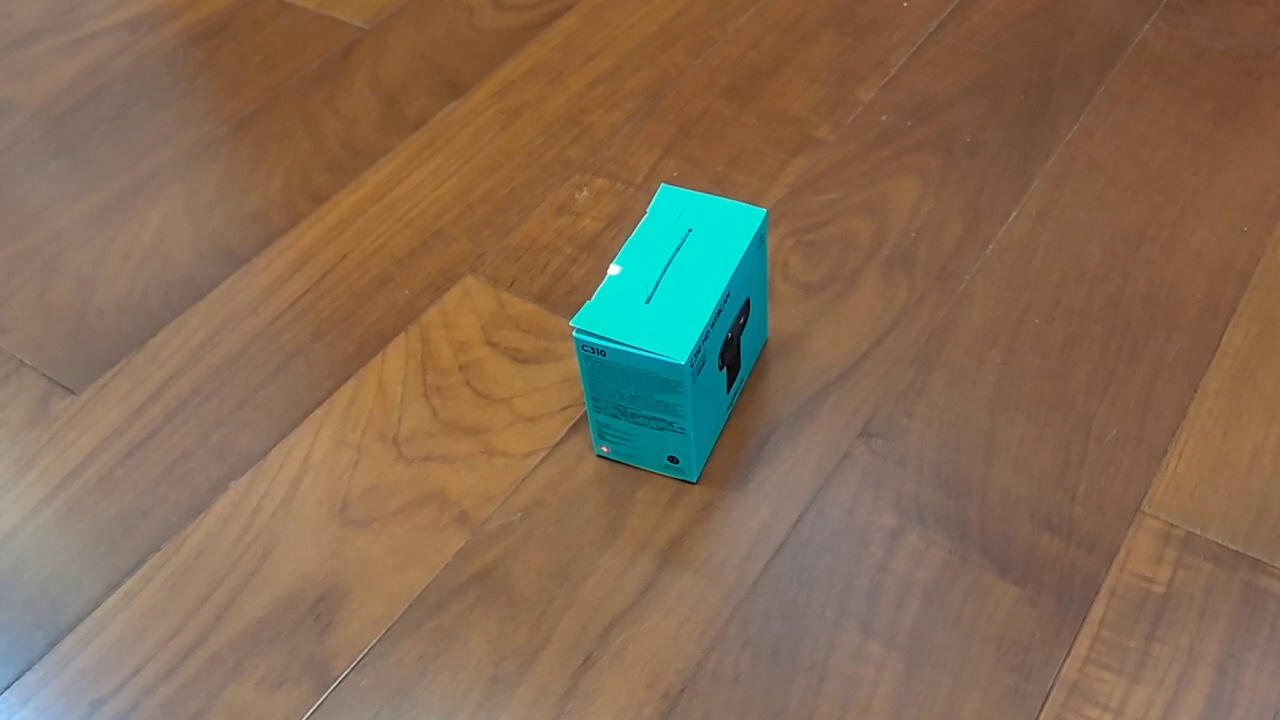webcam: (568, 182, 769, 485)
